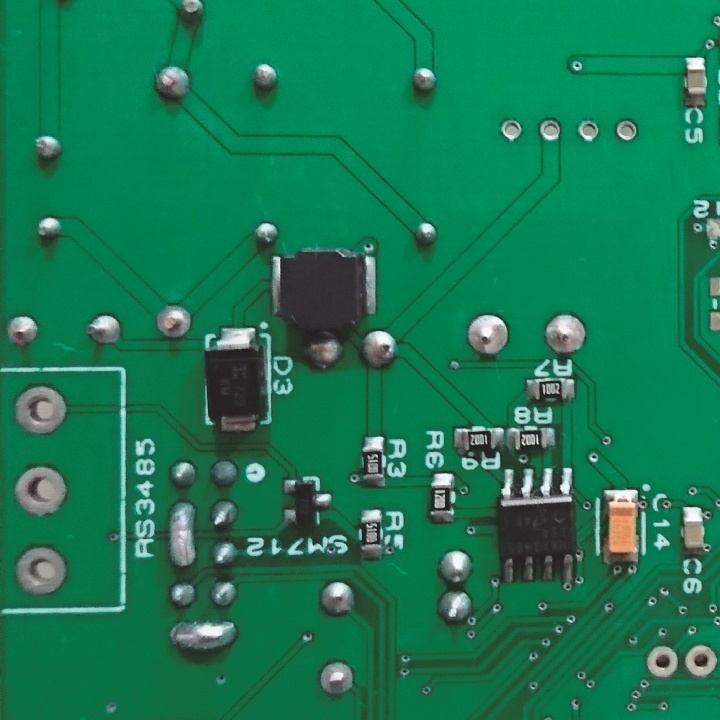F: (13, 463, 73, 520), (12, 382, 70, 440), (13, 543, 71, 601), (463, 311, 515, 360), (541, 312, 590, 360), (153, 300, 196, 343), (84, 309, 127, 351), (3, 313, 47, 351), (679, 640, 720, 680), (316, 658, 356, 698), (643, 643, 679, 680), (612, 114, 639, 147), (574, 114, 601, 146), (496, 115, 526, 143), (535, 116, 562, 145)
P: (164, 498, 199, 575), (164, 619, 242, 652)
